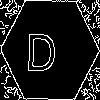D: (25, 25, 57, 71)
